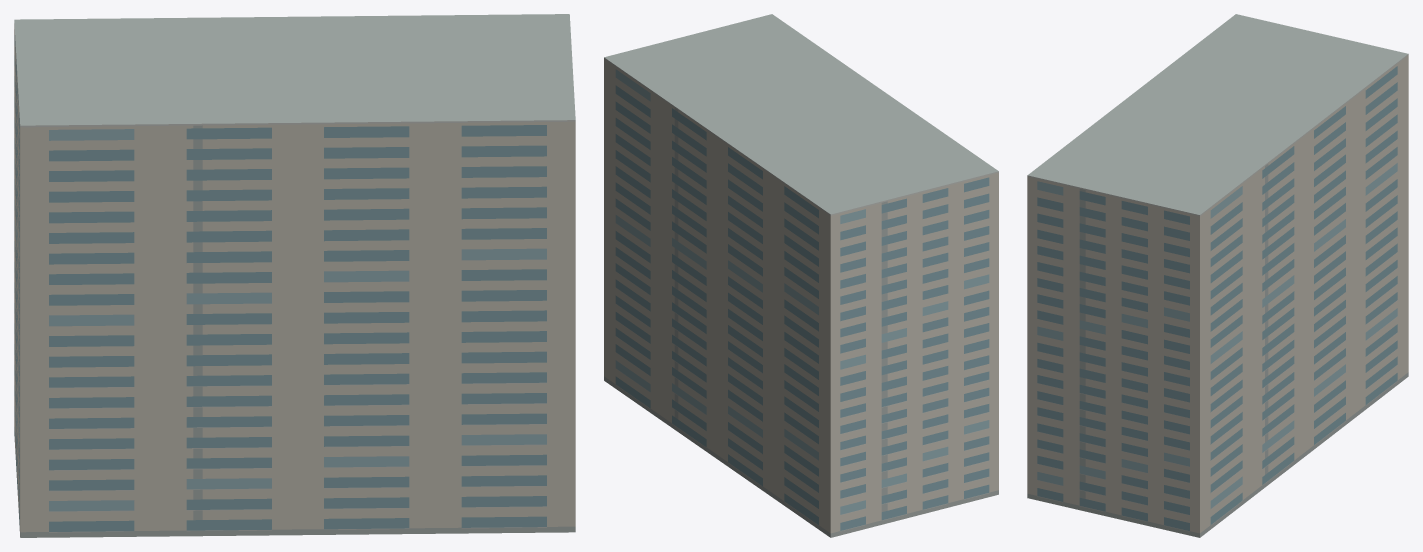
Rendered from residential-25d3055b-dc12-4989-b58b-68fec2db2494.glb.
The picture shows the model from 3 angles, left to right: view 1: azimuth 30°, elevation 25°; view 2: azimuth 150°, elevation 25°; view 3: azimuth 270°, elevation 25°; orthographic projection. The views are drawn at different scales.
Parts seen in each view (by area): view 1: residential-25d3055b-dc12-4989-b58b-68fec2db2494.tmp; view 2: residential-25d3055b-dc12-4989-b58b-68fec2db2494.tmp; view 3: residential-25d3055b-dc12-4989-b58b-68fec2db2494.tmp.
Boxes of the visible parts, x1,y1,x2,y2 form: residential-25d3055b-dc12-4989-b58b-68fec2db2494.tmp: (14,14,575,537); residential-25d3055b-dc12-4989-b58b-68fec2db2494.tmp: (604,14,998,537); residential-25d3055b-dc12-4989-b58b-68fec2db2494.tmp: (1027,14,1408,537).
Size of the model in its own units: 80.19 by 60 by 64.2.
